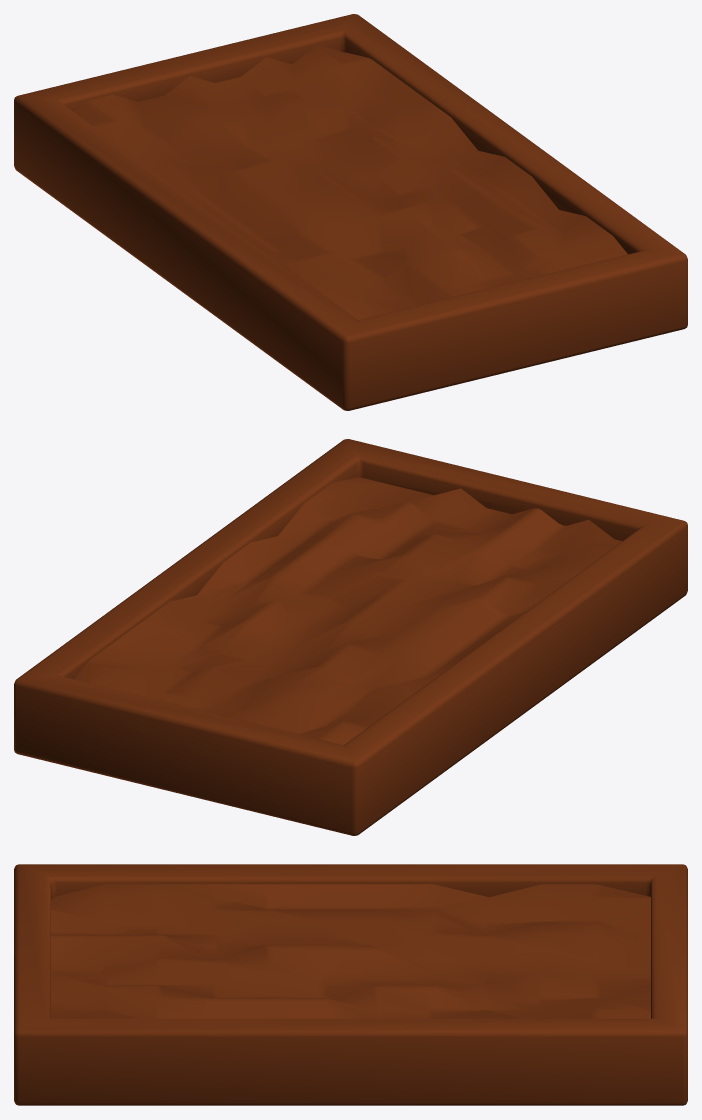
The model's file is fieldbevel 1.fbx.
3 renders of one model, top to bottom at view 1: azimuth 30°, elevation 25°; view 2: azimuth 150°, elevation 25°; view 3: azimuth 270°, elevation 25°, orthographic.
Visible parts, largest first — view 1: field; view 2: field; view 3: field.
Boxes of the visible parts, x1,y1,x2,y2 form: field: (14, 14, 687, 410); field: (14, 439, 687, 835); field: (14, 864, 687, 1105).
Bounding box in the file's own units: 1.19 × 0.248 × 2.
